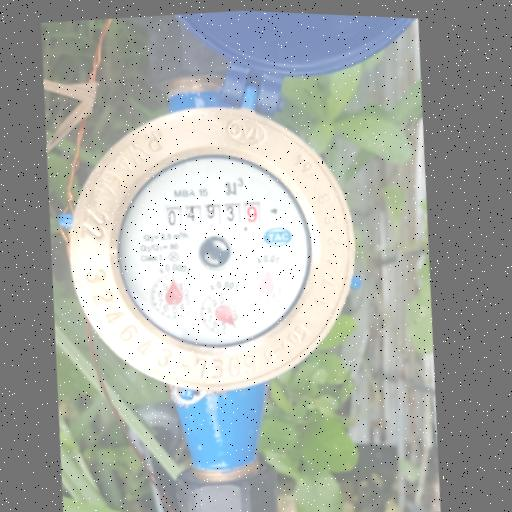0: (166, 205, 182, 228)
3: (225, 204, 242, 224)
4: (185, 205, 202, 225)
9: (205, 202, 222, 226), (244, 203, 261, 225)
border_water_meter_number: (159, 191, 268, 239)
